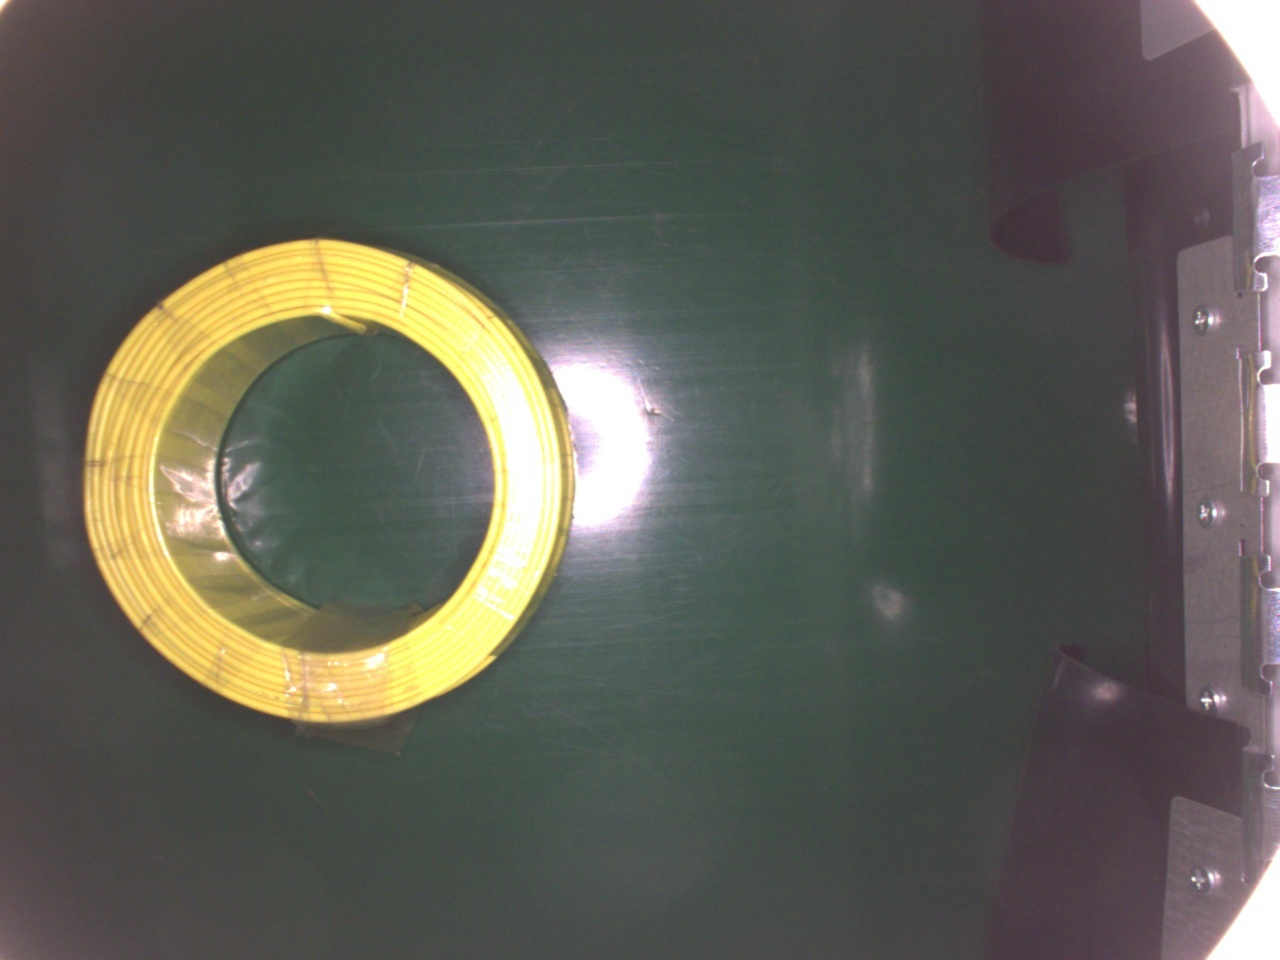yellow: (83, 240, 574, 724)
